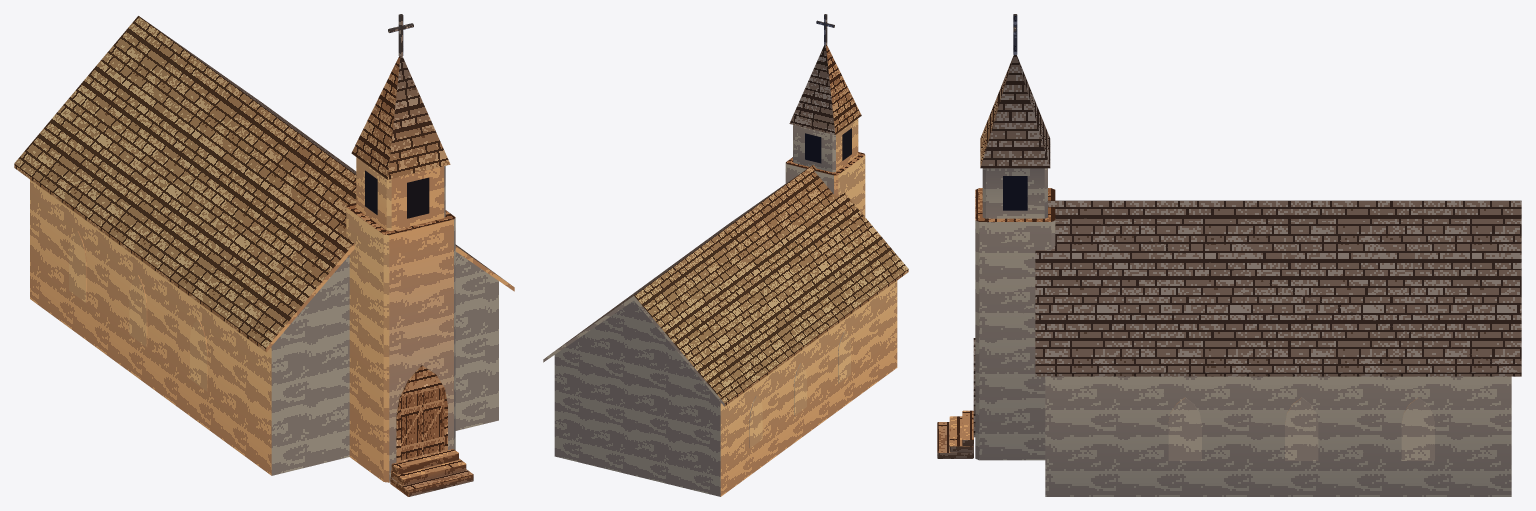
Rendered from wtown.church__wide.glb.
3 renders of one model, left to right at view 1: azimuth 30°, elevation 25°; view 2: azimuth 150°, elevation 25°; view 3: azimuth 270°, elevation 25°, orthographic. The views are drawn at different scales.
Parts seen in each view (by area): view 1: kit_roof, kit_body, kit_tower, kit_spire, kit_card_panes, kit_belfry, kit_windows, kit_steps, kit_trim; view 2: kit_body, kit_roof, kit_spire, kit_tower, kit_belfry, kit_windows, kit_card_panes; view 3: kit_roof, kit_body, kit_tower, kit_windows, kit_spire, kit_belfry, kit_steps, kit_card_panes.
Boxes of the visible parts, x1=… form: kit_roof: x1=14, y1=16, x2=514, y2=352; kit_body: x1=30, y1=179, x2=498, y2=475; kit_tower: x1=346, y1=203, x2=455, y2=482; kit_spire: x1=351, y1=56, x2=450, y2=179; kit_card_panes: x1=365, y1=170, x2=444, y2=460; kit_belfry: x1=356, y1=157, x2=445, y2=230; kit_windows: x1=69, y1=231, x2=207, y2=391; kit_steps: x1=390, y1=449, x2=473, y2=496; kit_trim: x1=396, y1=365, x2=447, y2=462; kit_body: x1=554, y1=281, x2=897, y2=496; kit_roof: x1=543, y1=165, x2=908, y2=406; kit_spire: x1=789, y1=45, x2=861, y2=134; kit_tower: x1=785, y1=152, x2=865, y2=216; kit_belfry: x1=793, y1=118, x2=858, y2=172; kit_windows: x1=749, y1=331, x2=850, y2=448; kit_card_panes: x1=805, y1=128, x2=851, y2=163; kit_roof: x1=1035, y1=200, x2=1521, y2=376; kit_body: x1=1045, y1=376, x2=1511, y2=496; kit_tower: x1=975, y1=188, x2=1055, y2=460; kit_windows: x1=1168, y1=397, x2=1434, y2=460; kit_spire: x1=980, y1=55, x2=1050, y2=168; kit_belfry: x1=982, y1=168, x2=1047, y2=218; kit_steps: x1=937, y1=410, x2=973, y2=458; kit_card_panes: x1=1003, y1=176, x2=1027, y2=210.
Bounding box in the file's own units: 8.3 × 14.2 × 17.54.
Materials: 9 (9 with a texture image).
